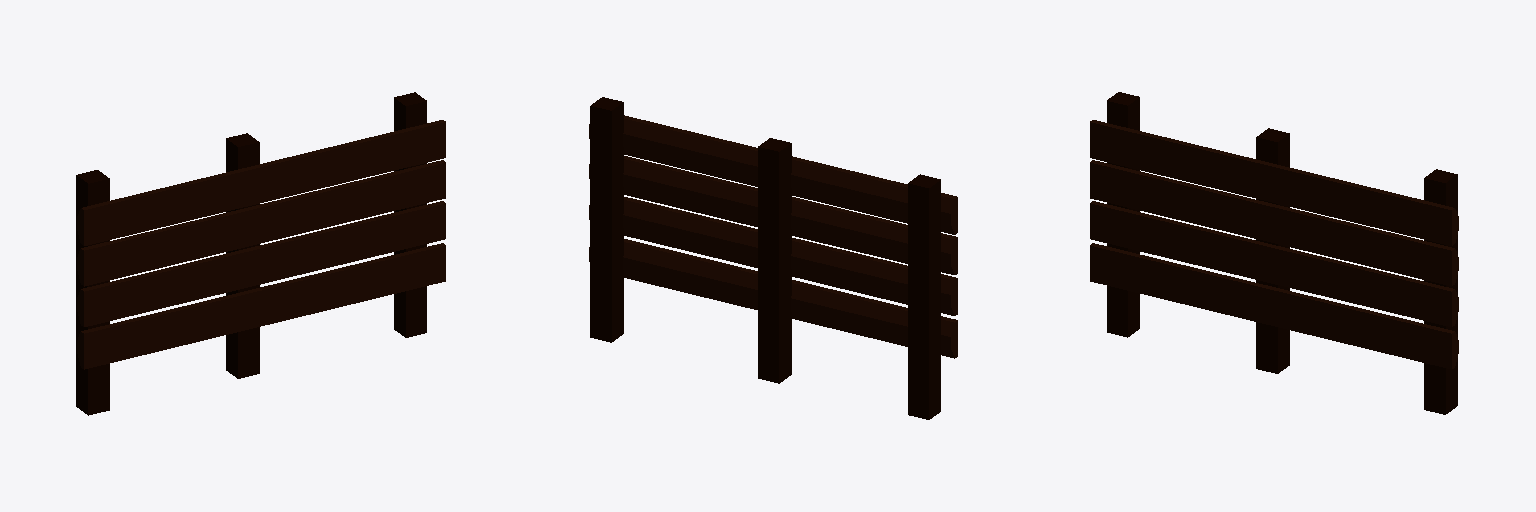
Rendered from F-Colliders.obj.
The picture shows the model from 3 angles: view 1: azimuth 30°, elevation 25°; view 2: azimuth 150°, elevation 25°; view 3: azimuth 330°, elevation 25°; orthographic projection.
Parts seen in each view (by area): view 1: FCollider_Fcollider; view 2: FCollider_Fcollider; view 3: FCollider_Fcollider.
Boxes of the visible parts, box(x1,y1,x2,y2) form: FCollider_Fcollider: box(76, 92, 445, 415); FCollider_Fcollider: box(589, 97, 957, 419); FCollider_Fcollider: box(1090, 92, 1458, 414).
Bounding box in the file's own units: 4.5 × 2.75 × 0.3992.